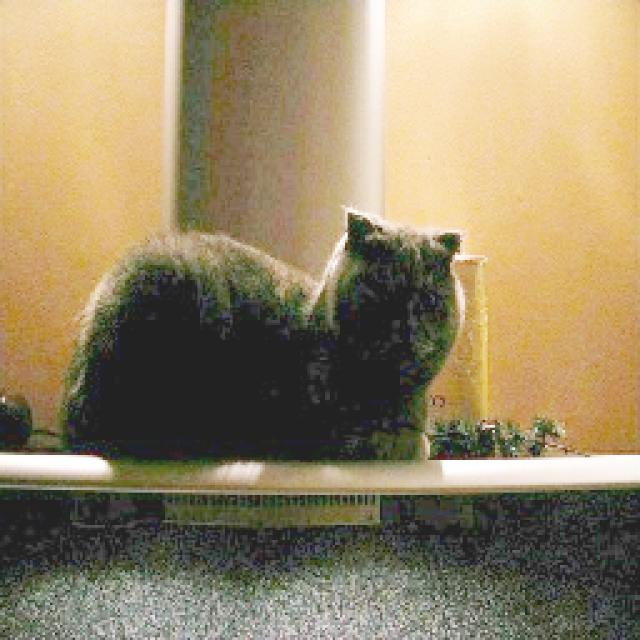cat: (45, 167, 489, 513)
